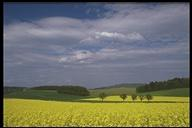cloud: (65, 17, 155, 66)
field: (7, 94, 189, 124)
sky: (6, 4, 187, 72)
tree: (140, 77, 188, 91)
